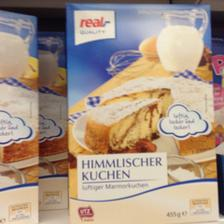Kuchen: (65, 0, 217, 222)
